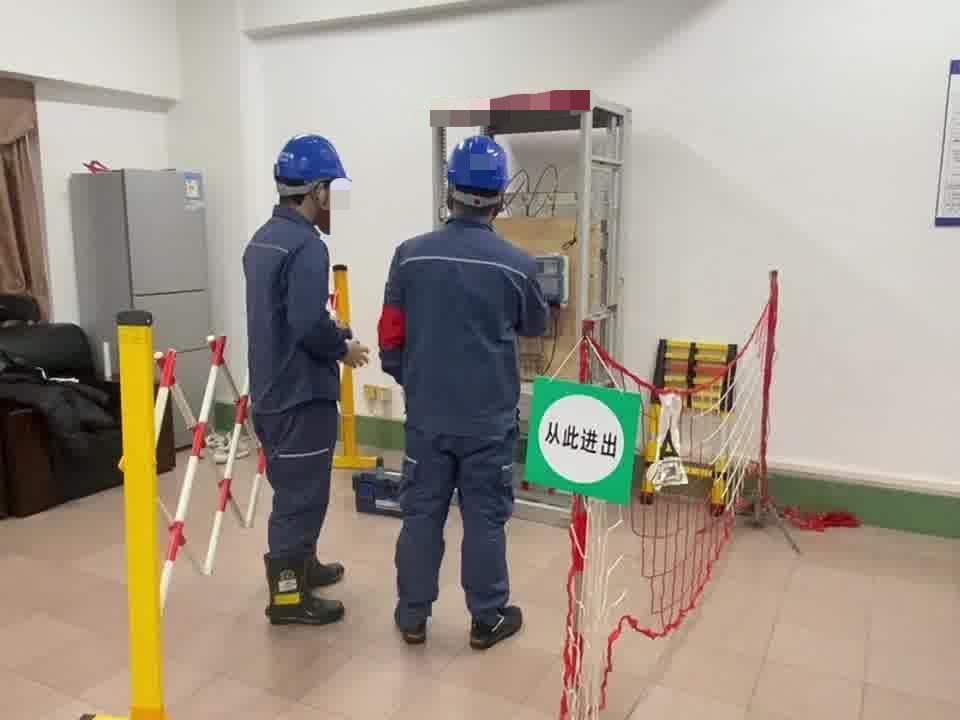halt: (275, 135, 354, 224), (447, 136, 514, 218)
inear: (307, 183, 332, 217)
